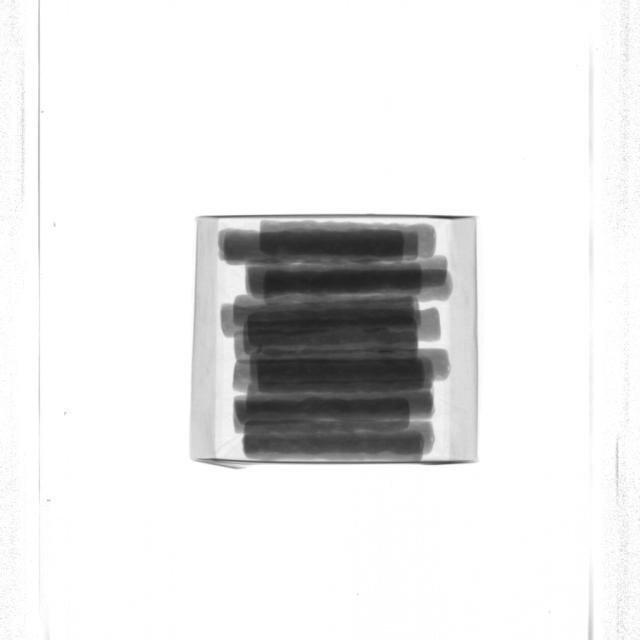ym: (256, 342, 264, 356), (379, 349, 397, 354)
